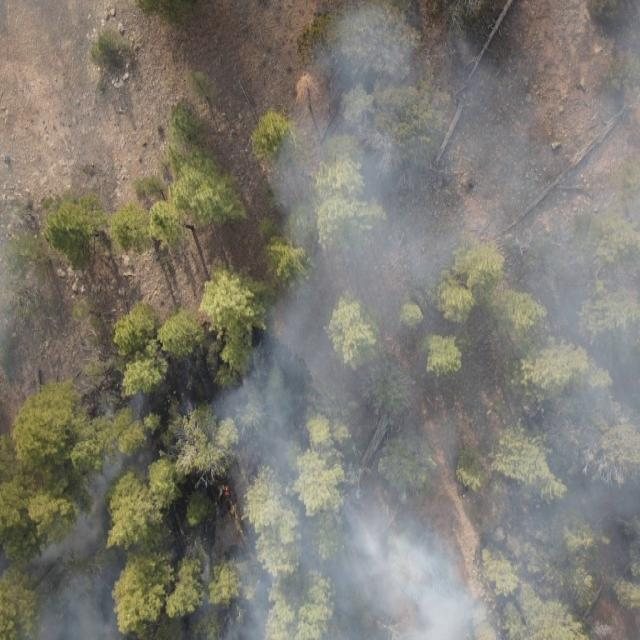fire: (219, 484, 232, 498)
smoke: (271, 0, 640, 640), (0, 0, 110, 372), (25, 372, 164, 640), (185, 390, 270, 640), (236, 347, 271, 391), (0, 546, 25, 582)
